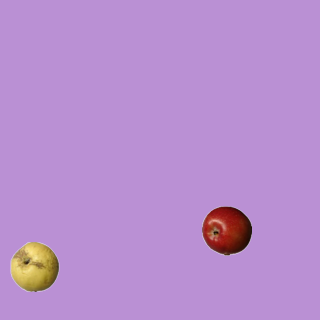Apple Braeburn: (201, 205, 251, 255)
Apple Golden 1: (9, 241, 59, 291)
